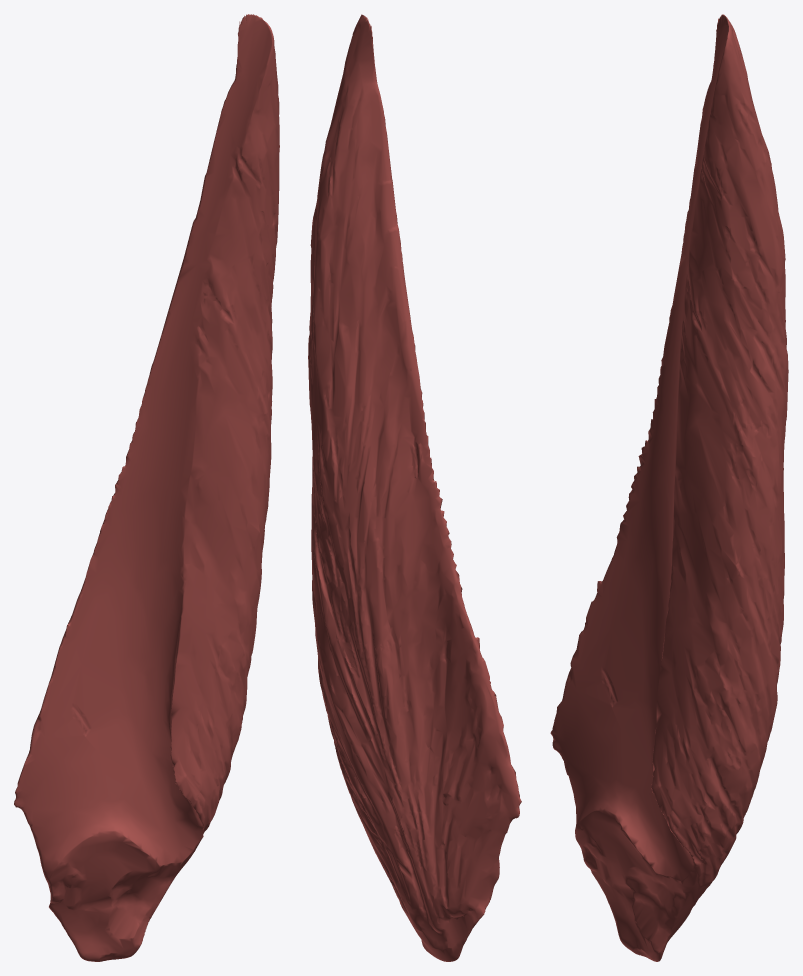
File: FMA37695.glb
The picture shows the model from 3 angles, left to right: view 1: azimuth 30°, elevation 25°; view 2: azimuth 150°, elevation 25°; view 3: azimuth 330°, elevation 25°; orthographic projection. The views are drawn at different scales.
Parts seen in each view (by area): view 1: FMA37695; view 2: FMA37695; view 3: FMA37695.
Part boxes in pixels (x1,y1,x2,y2): FMA37695: (14, 14, 279, 961); FMA37695: (308, 14, 521, 961); FMA37695: (550, 14, 788, 961).
Bounding box in the file's own units: 0.0603 × 0.2269 × 0.0259.
